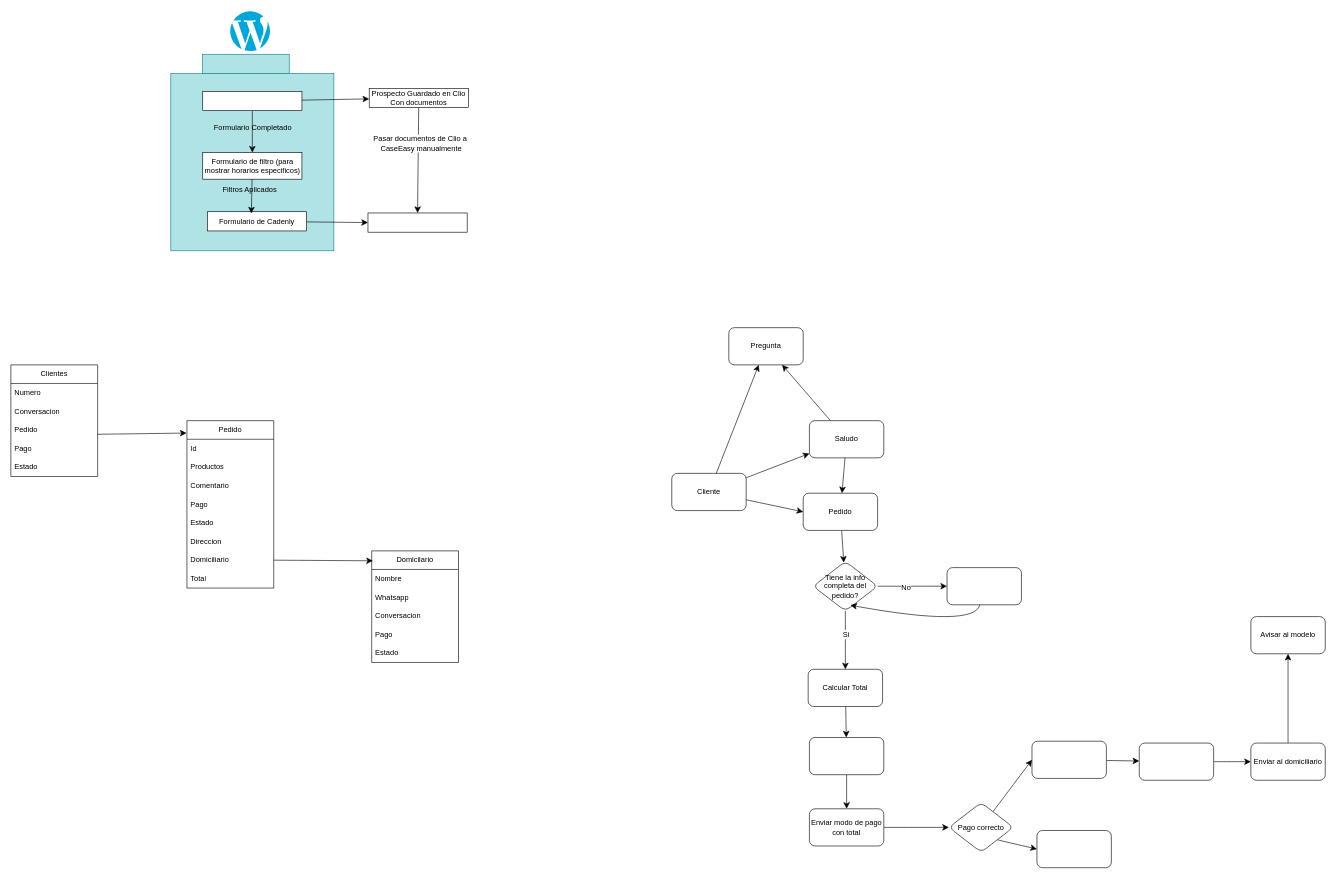
The diagram is 1336 pixels wide and 879 high, and some of its shapes have lost their labels. The centre of each missing label's shape, as x and y in pixels:
Confirmar pedido: [1176,761]
Enviar a Cocina: [1068,759]
Error: [1073,849]
Escoger Metodo de pago: [846,756]
Formulario de cliogrow: [252,101]
Pedir Los datos: [983,586]
Prospecto Guardado en CaseEasy (sin documentos): [417,222]
sternaglobal.com: [245,63]
